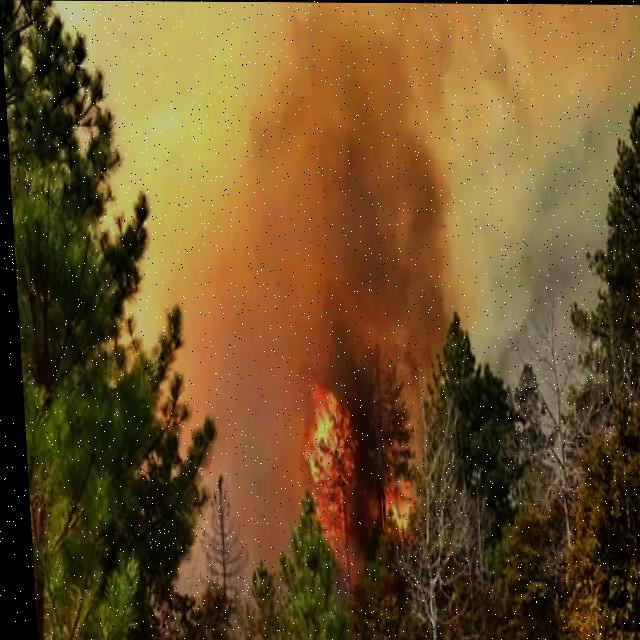Fire: (296, 373, 357, 525), (373, 474, 409, 536)
